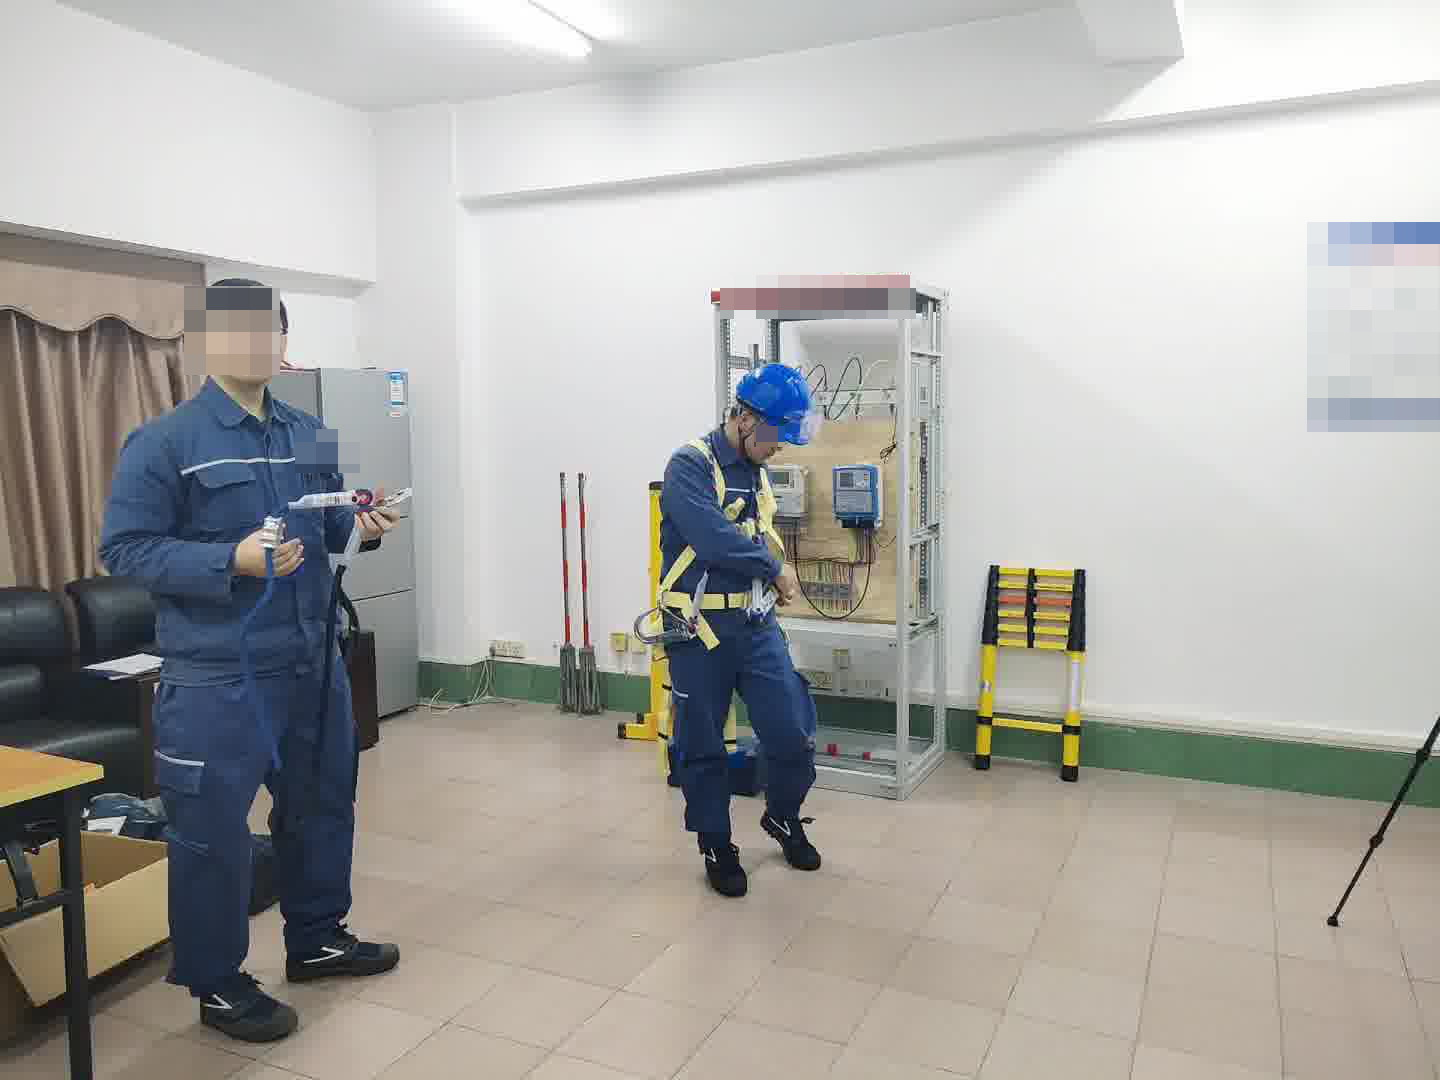downsuit: (152, 691, 366, 984), (664, 619, 814, 843)
halt: (731, 363, 815, 457)
hand: (231, 518, 308, 583), (352, 484, 403, 545), (773, 552, 794, 599)
inear: (730, 408, 763, 448)
noear: (189, 324, 219, 363)
person: (94, 273, 401, 1035), (650, 362, 832, 885)
safebelt: (650, 422, 802, 651)
unhalt: (193, 277, 295, 399)
upsuit: (92, 382, 360, 673), (656, 433, 781, 609)
